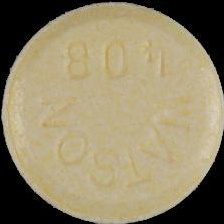53808-0703: (0, 0, 224, 224)
